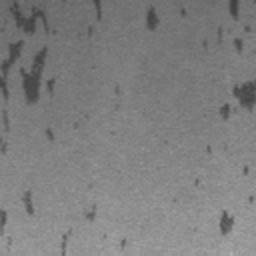Red iron sheet: (0, 0, 256, 155), (0, 189, 125, 256), (195, 145, 256, 234), (114, 83, 122, 93)
